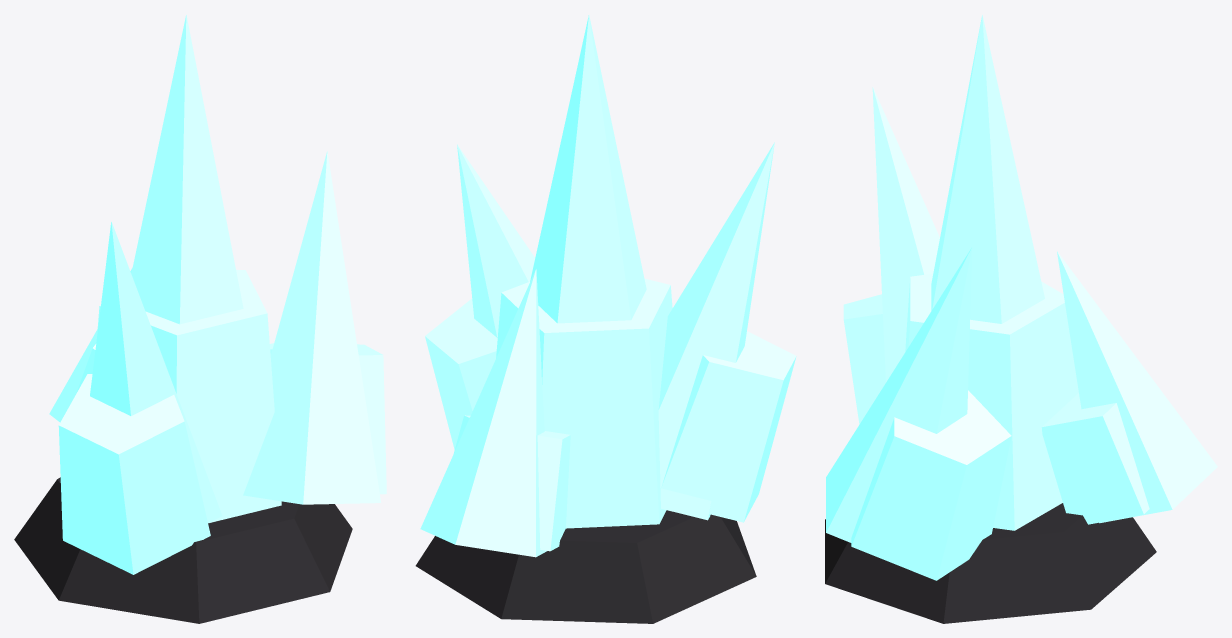
Rendered from loot_crystal.glb.
3 renders of one model, left to right at view 1: azimuth 30°, elevation 25°; view 2: azimuth 150°, elevation 25°; view 3: azimuth 270°, elevation 25°, orthographic.
Parts seen in each view (by area): view 1: prop.loot_crystal; view 2: prop.loot_crystal; view 3: prop.loot_crystal.
Boxes of the visible parts, box(x1,y1,x2,y2) form: prop.loot_crystal: box(14, 15, 386, 623); prop.loot_crystal: box(415, 15, 796, 623); prop.loot_crystal: box(825, 15, 1217, 623).
Bounding box in the file's own units: 0.2323 × 0.36 × 0.2383.
